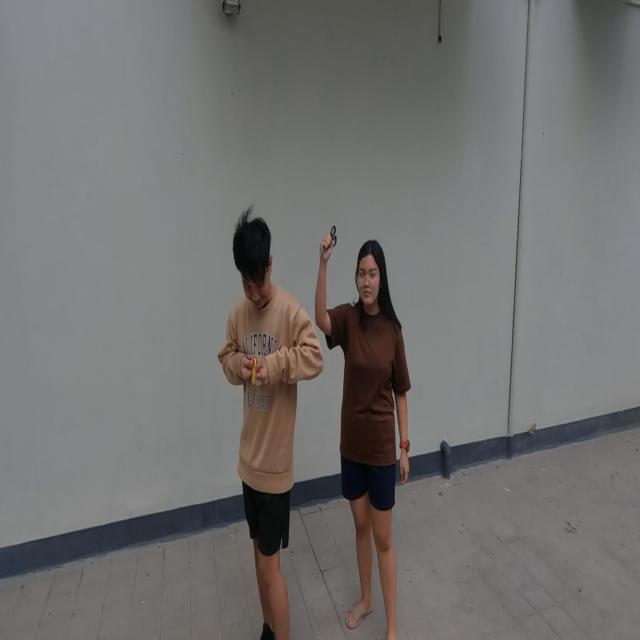scissor: (248, 358, 260, 408), (319, 226, 337, 259)
